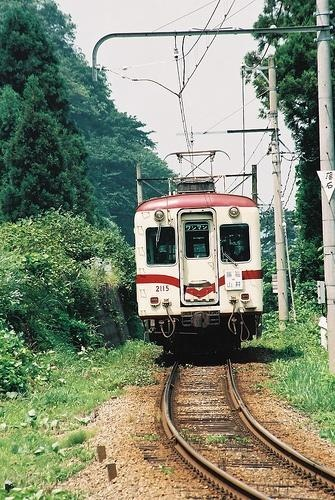train: (135, 150, 265, 357)
